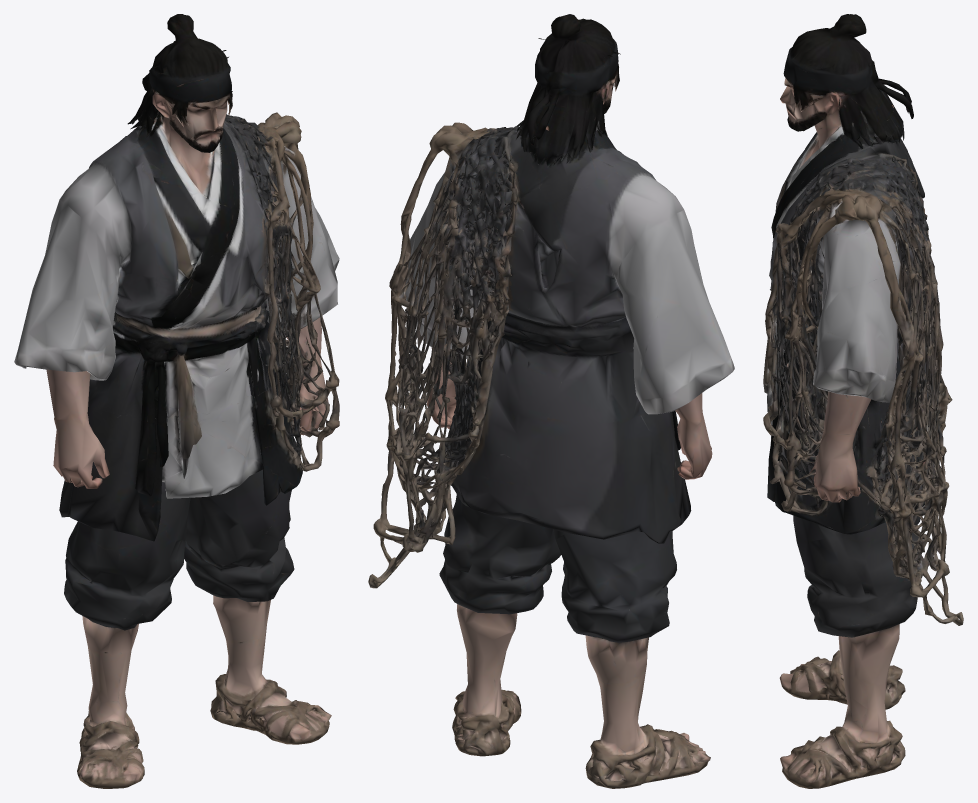
File: fisher2.glb
The picture shows the model from 3 angles, left to right: view 1: azimuth 30°, elevation 25°; view 2: azimuth 150°, elevation 25°; view 3: azimuth 270°, elevation 25°; orthographic projection. The views are drawn at different scales.
Visible parts, largest first — view 1: Mesh_0; view 2: Mesh_0; view 3: Mesh_0.
Boxes of the visible parts, x1=… form: Mesh_0: x1=14, y1=14, x2=339, y2=788; Mesh_0: x1=368, y1=14, x2=734, y2=788; Mesh_0: x1=763, y1=14, x2=963, y2=788.
Size of the model in its own units: 0.4713 by 1 by 0.2546.
1 material, 1 textured.
